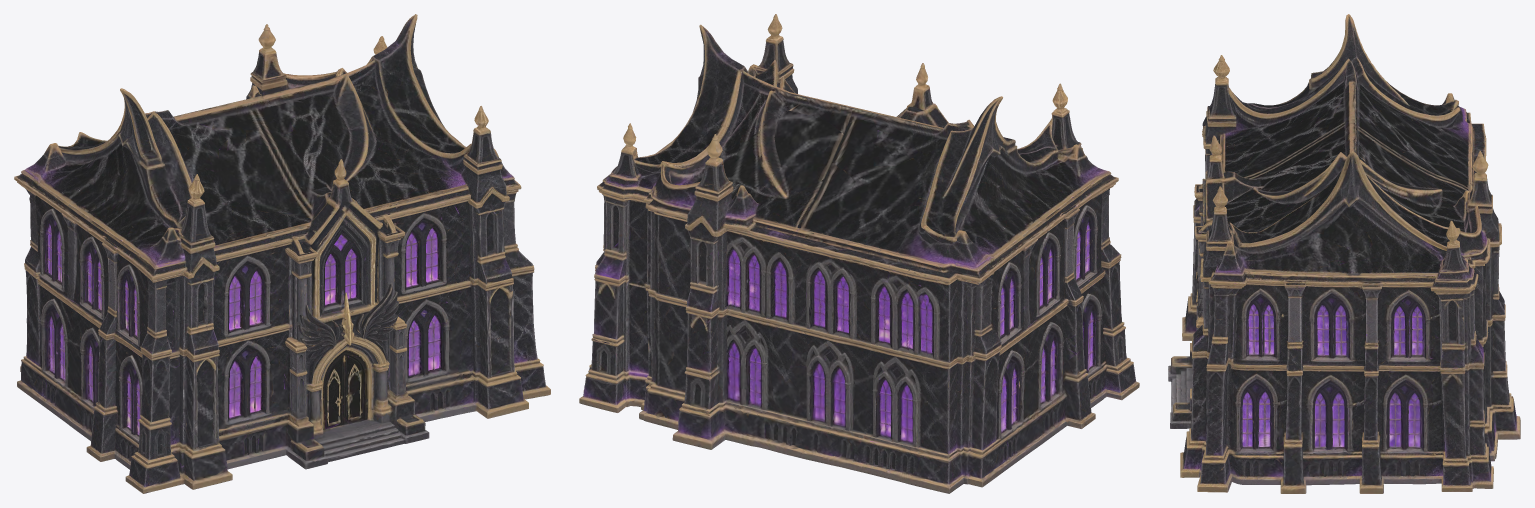
The model's file is sq-obsidian.glb.
The picture shows the model from 3 angles, left to right: view 1: azimuth 30°, elevation 25°; view 2: azimuth 150°, elevation 25°; view 3: azimuth 270°, elevation 25°; orthographic projection. The views are drawn at different scales.
Visible parts, largest first — view 1: lod0; view 2: lod0; view 3: lod0.
Boxes of the visible parts, <box> form: lod0: <box>14,14,550,493</box>; lod0: <box>579,14,1139,493</box>; lod0: <box>1168,14,1520,493</box>.
Size of what is drawn, in the model's own units: 1.9 by 1.47 by 1.49.
1 material, 1 textured.
